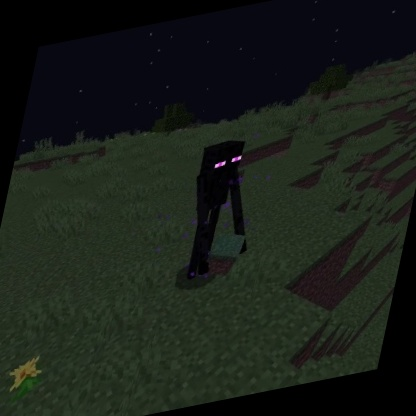enderman: (171, 128, 275, 286)
